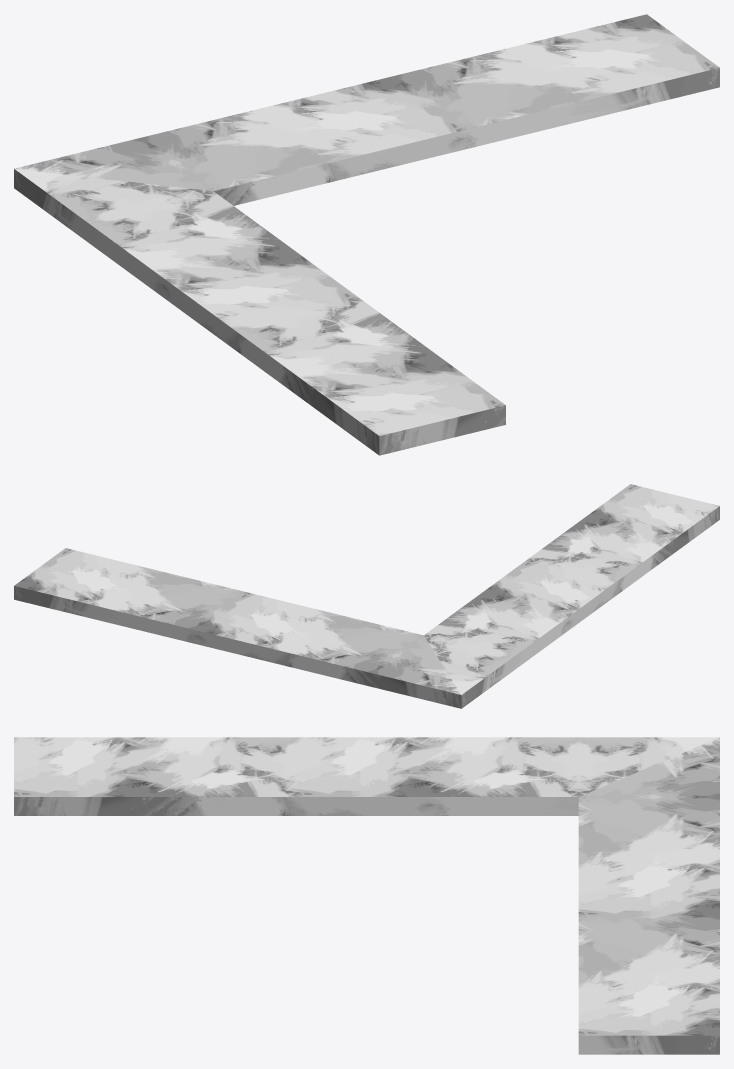
File: BWallRoofCornerFlat_B.fbx
3 renders of one model, top to bottom at view 1: azimuth 30°, elevation 25°; view 2: azimuth 150°, elevation 25°; view 3: azimuth 270°, elevation 25°, orthographic. The views are drawn at different scales.
Parts seen in each view (by area): view 1: BWallRoofFlatCorner_B; view 2: BWallRoofFlatCorner_B; view 3: BWallRoofFlatCorner_B.
Boxes of the visible parts, x1,y1,x2,y2 form: BWallRoofFlatCorner_B: [14, 14, 719, 455]; BWallRoofFlatCorner_B: [14, 484, 719, 708]; BWallRoofFlatCorner_B: [14, 737, 719, 1054].
Size of the model in its own units: 1000 by 29.52 by 1000.
